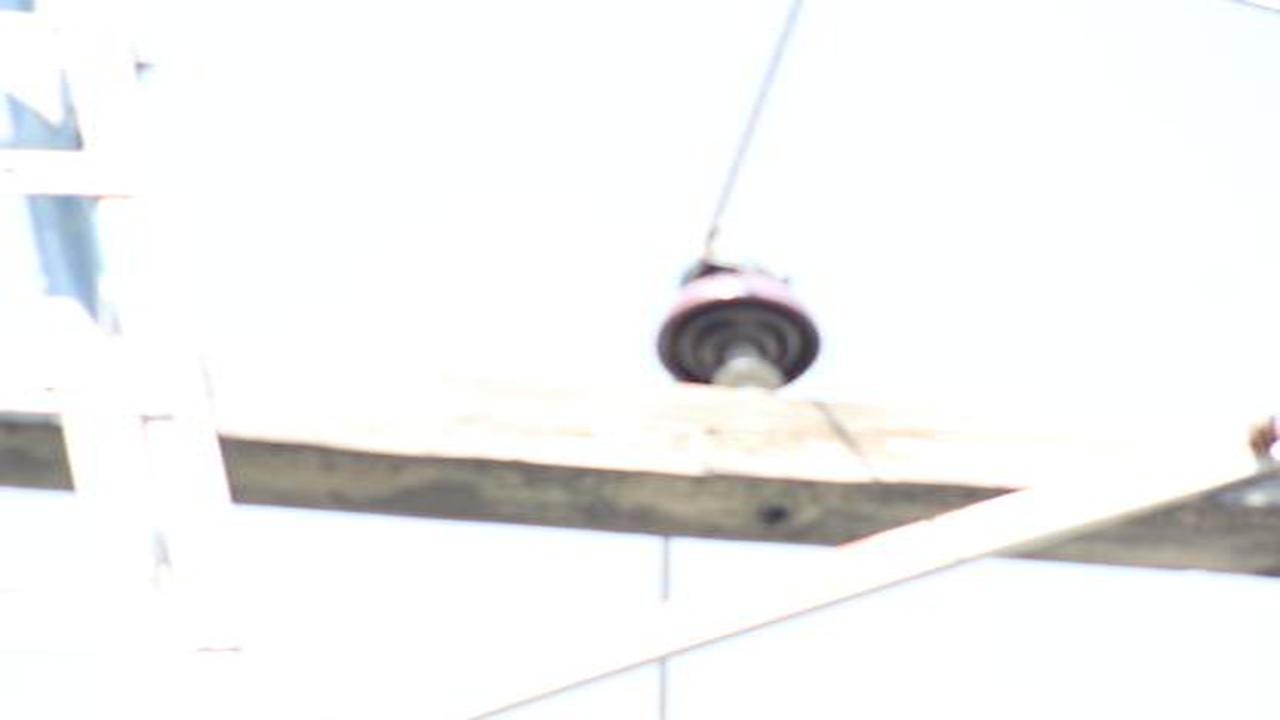insulator_pin: (652, 253, 824, 385)
